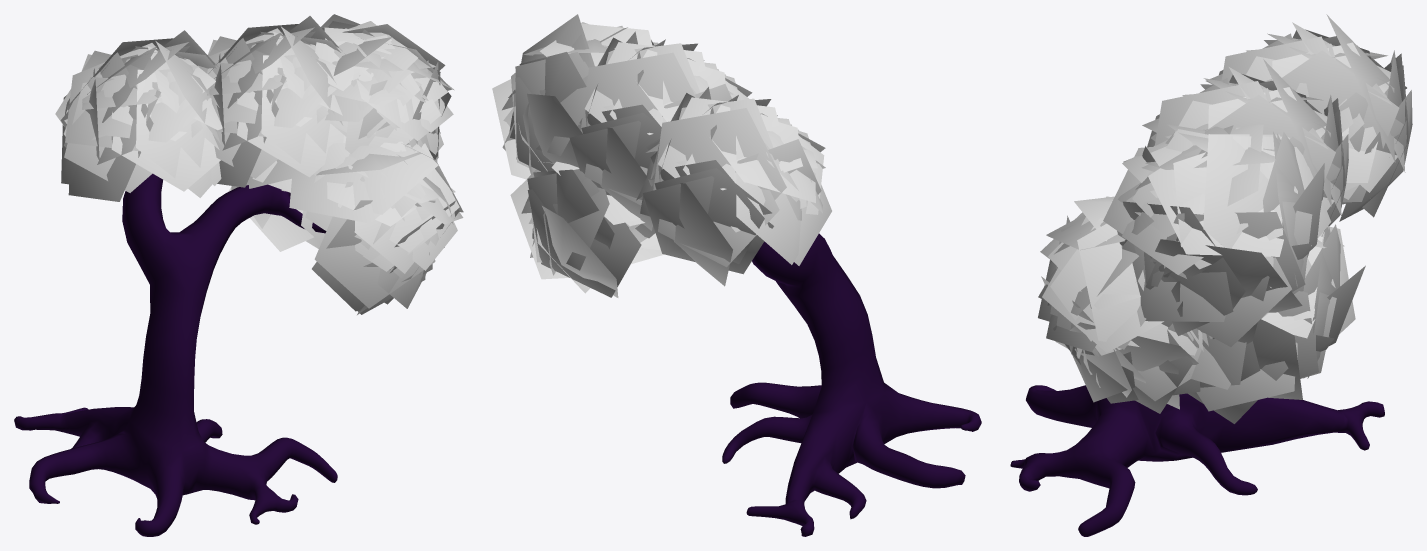
File: Tree03.fbx
The picture shows the model from 3 angles, left to right: view 1: azimuth 30°, elevation 25°; view 2: azimuth 150°, elevation 25°; view 3: azimuth 270°, elevation 25°; orthographic projection. The views are drawn at different scales.
Visible parts, largest first — view 1: Cube.001, Circle.167, Circle.163, Circle.164, Circle.138, Circle.107, Circle.068, Circle.129, Circle.132, Circle.062, Circle.118, Circle.048 (+44 smaller); view 2: Cube.001, Circle.111, Circle.041, Circle.091, Circle.136, Circle.126, Circle.128, Circle.066, Circle.031, Circle.101, Circle.089, Circle.124 (+25 smaller); view 3: Cube.001, Circle.146, Circle.006, Circle.140, Circle.035, Circle.001, Circle.070, Circle.008, Circle.016, Circle.086, Circle.003, Circle.105 (+54 smaller).
Boxes of the visible parts, x1,y1,x2,y2 form: Cube.001: [14, 173, 337, 536]; Circle.167: [314, 182, 435, 308]; Circle.163: [349, 144, 438, 214]; Circle.164: [289, 156, 379, 223]; Circle.138: [136, 69, 212, 197]; Circle.107: [65, 43, 185, 151]; Circle.068: [261, 55, 329, 177]; Circle.129: [68, 116, 153, 201]; Circle.132: [111, 136, 220, 191]; Circle.062: [237, 122, 343, 177]; Circle.118: [98, 99, 210, 142]; Circle.048: [224, 86, 336, 127]; Cube.001: [722, 233, 981, 536]; Circle.111: [653, 108, 786, 199]; Circle.041: [580, 52, 696, 133]; Circle.091: [527, 178, 641, 297]; Circle.136: [648, 179, 732, 286]; Circle.126: [643, 176, 773, 274]; Circle.128: [736, 124, 800, 264]; Circle.066: [577, 124, 652, 230]; Circle.031: [527, 93, 582, 167]; Circle.101: [542, 206, 618, 297]; Circle.089: [533, 169, 614, 249]; Circle.124: [660, 160, 764, 264]; Cube.001: [1010, 385, 1384, 536]; Circle.146: [1077, 223, 1197, 355]; Circle.006: [1203, 134, 1280, 287]; Circle.140: [1282, 50, 1399, 202]; Circle.035: [1150, 239, 1302, 312]; Circle.001: [1117, 231, 1225, 321]; Circle.070: [1205, 95, 1335, 180]; Circle.008: [1148, 168, 1283, 256]; Circle.016: [1196, 257, 1291, 346]; Circle.086: [1196, 369, 1294, 411]; Circle.003: [1145, 212, 1305, 291]; Circle.105: [1213, 319, 1302, 399].
Bounding box in the file's own units: 8.73 × 7.87 × 6.07.
